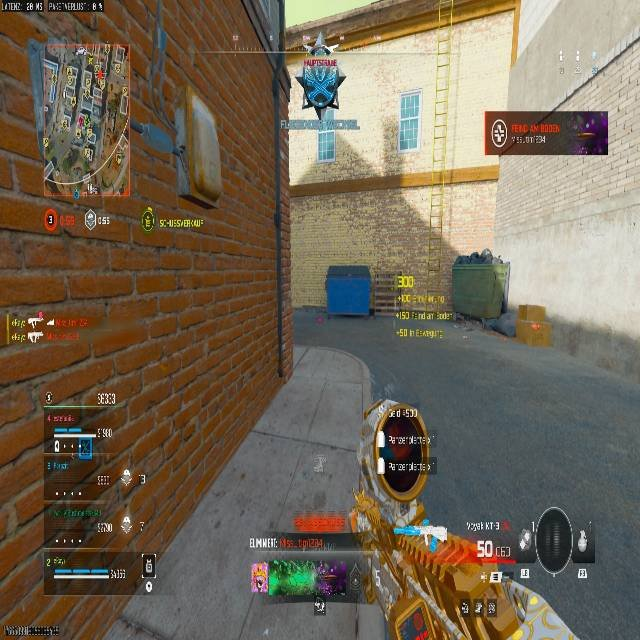head: (358, 400, 431, 492), (302, 32, 328, 54)
player: (289, 398, 437, 609), (291, 32, 346, 119)
